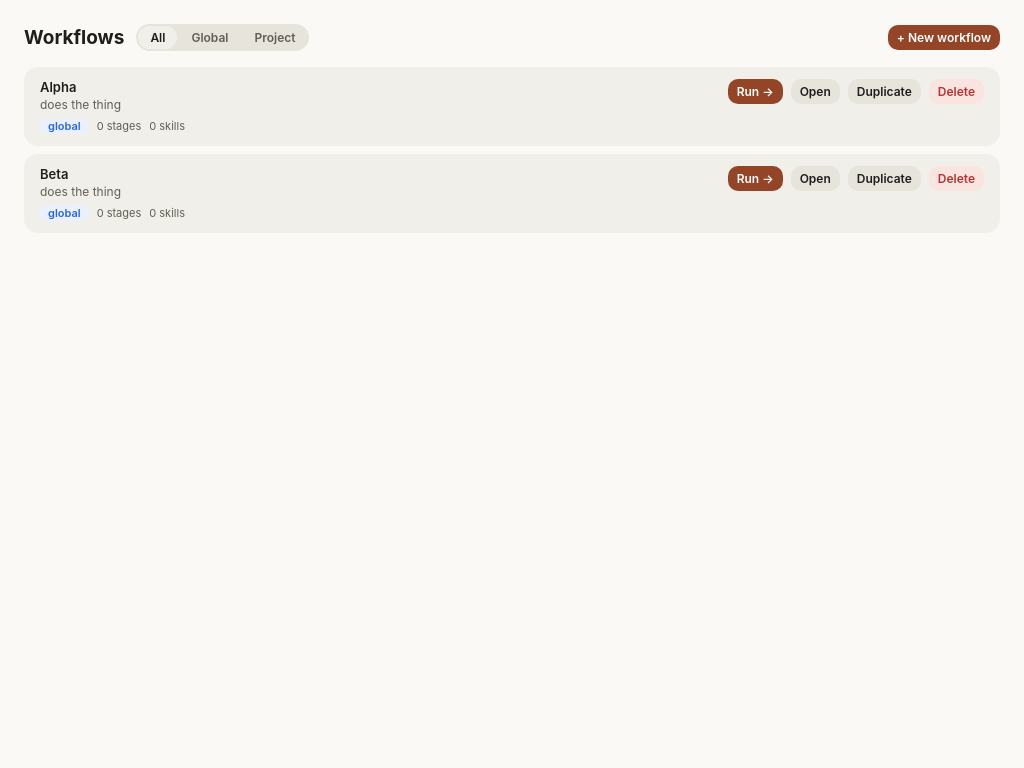
WorkflowsView (SCR-01) › WIP-4: a global row's "Run →" opens the picker with THAT workflow preselected, not the first
The image size is (1024, 768).
Click the button with test id "workflow-run-b".
click(755, 178)  # box [728,166,783,191]
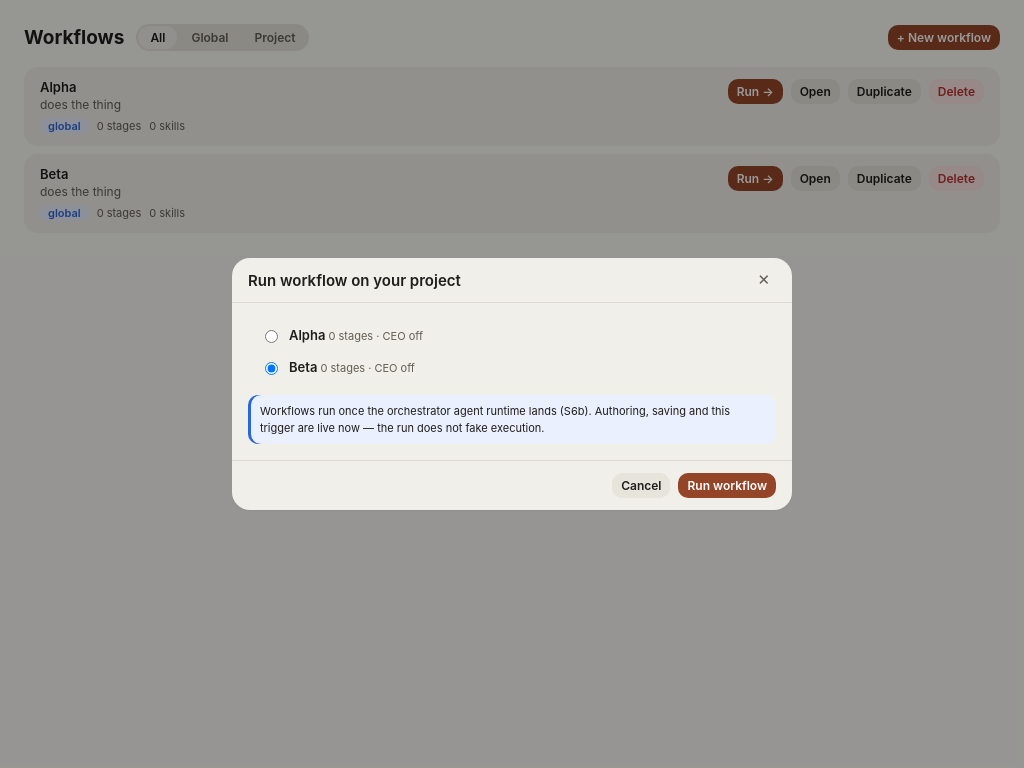
Expected: the radio button labelled "Beta 0 stages · CEO off" is checked, [265,362,278,375]
Expected: the radio button labelled "Alpha 0 stages · CEO off" is not checked, [265,330,278,343]
Expected: the text with test id "run-workflow-pending" shows "Workflows run once the orchestrator agent runtime lands (S6b). Authoring, saving and this trigger are live now — the run does not fake execution.", [260,404,730,434]
